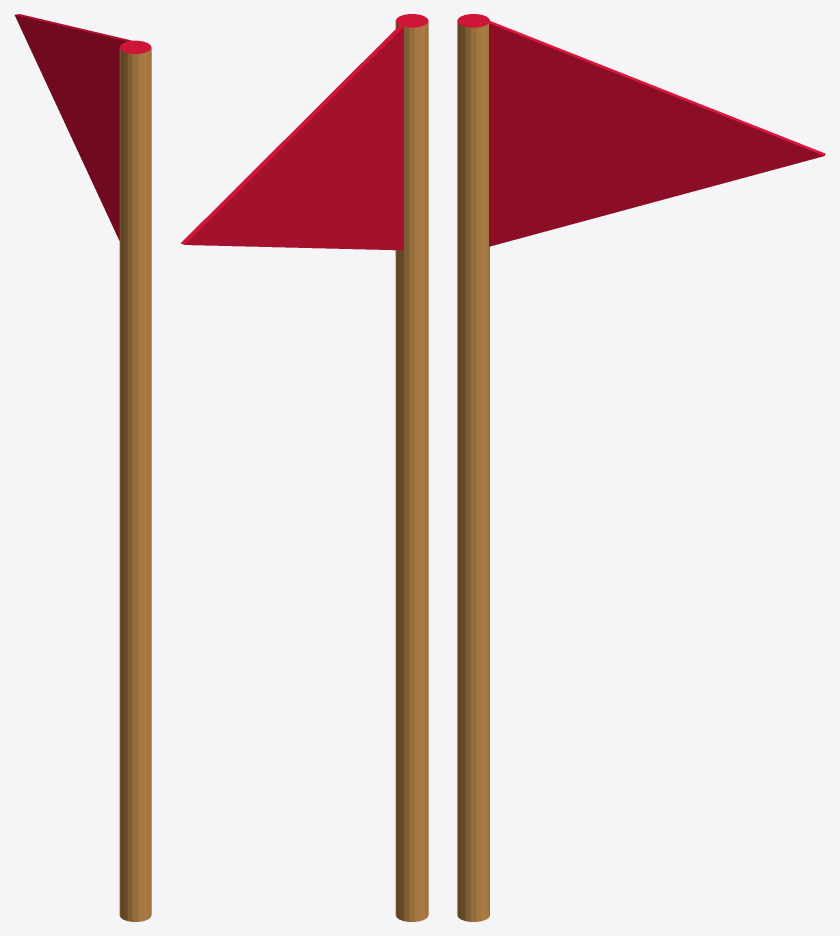
The model's file is Flag.fbx.
3 renders of one model, left to right at view 1: azimuth 30°, elevation 25°; view 2: azimuth 150°, elevation 25°; view 3: azimuth 270°, elevation 25°, orthographic. The views are drawn at different scales.
Parts seen in each view (by area): view 1: 圓柱體; view 2: 圓柱體; view 3: 圓柱體.
Part boxes in pixels (x1=…): 圓柱體: x1=14, y1=14, x2=151, y2=921; 圓柱體: x1=180, y1=14, x2=428, y2=921; 圓柱體: x1=457, y1=14, x2=825, y2=921.
Size of the model in its own units: 49.25 by 600 by 224.
